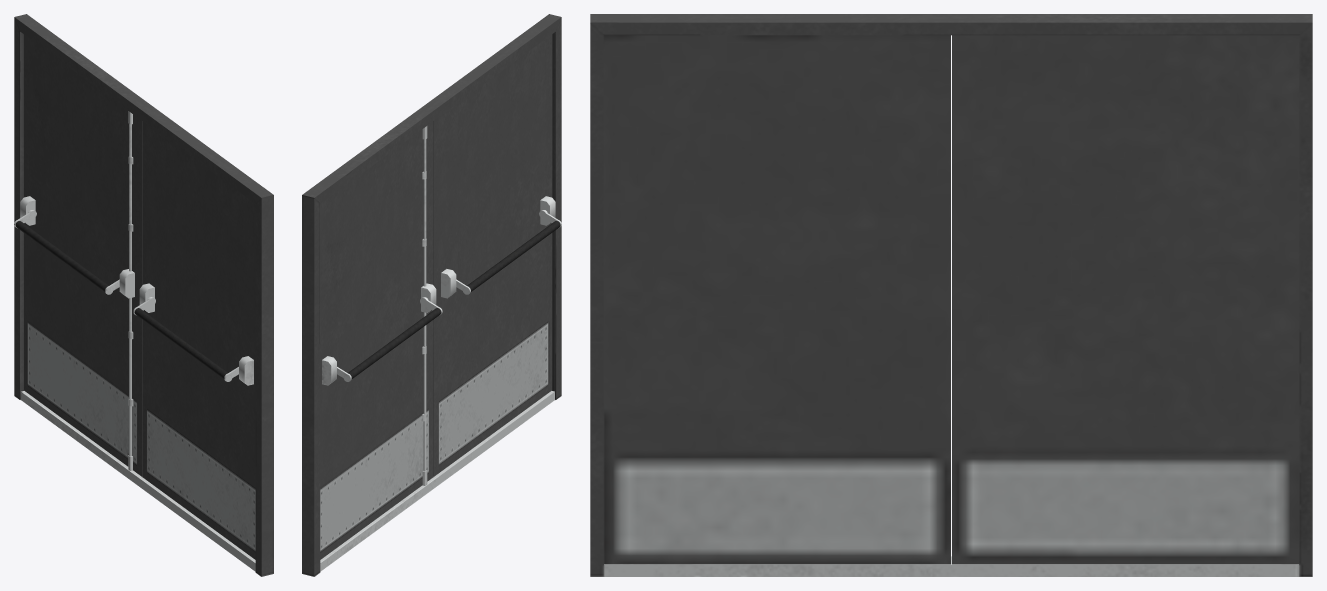
Rendered from SM_DoorExit.fbx.
3 renders of one model, left to right at view 1: azimuth 30°, elevation 25°; view 2: azimuth 150°, elevation 25°; view 3: azimuth 270°, elevation 25°, orthographic. The views are drawn at different scales.
Visible parts, largest first — view 1: SM_DoorExit_LOD0; view 2: SM_DoorExit_LOD0; view 3: SM_DoorExit_LOD0.
Boxes of the visible parts, <box> form: SM_DoorExit_LOD0: <box>14,14,273,576</box>; SM_DoorExit_LOD0: <box>302,14,561,576</box>; SM_DoorExit_LOD0: <box>590,14,1312,576</box>.
Bounding box in the file's own units: 18.57 × 260 × 220.
Materials: 1 (1 with a texture image).
